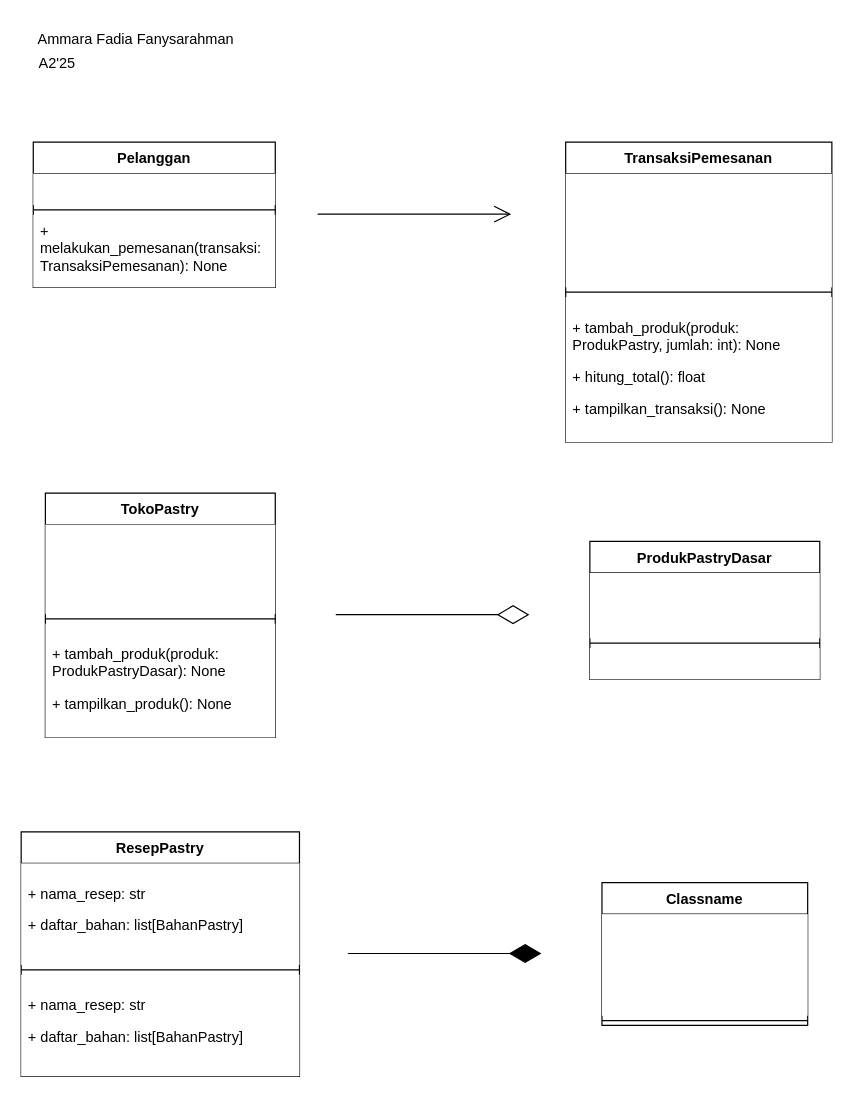
The diagram is 853 pixels wide and 1100 high, and some of its shapes have lost their labels. The centre of each missing label's shape, as x and y in pixels:
"+ nama : str + harga : float" belongs at pixel 704 605.
"+ nama: str" belongs at pixel 154 188.
"+ nama: str + jumlah: str" belongs at pixel 704 964.
"+ nama_toko: str + daftar_produk: list" belongs at pixel 160 568.
"+ nomor_transaksi: str + nama_pelanggan: str + daftar_produk: list" belongs at pixel 698 230.
"+ tampilkan_info(): str" belongs at pixel 704 663.
